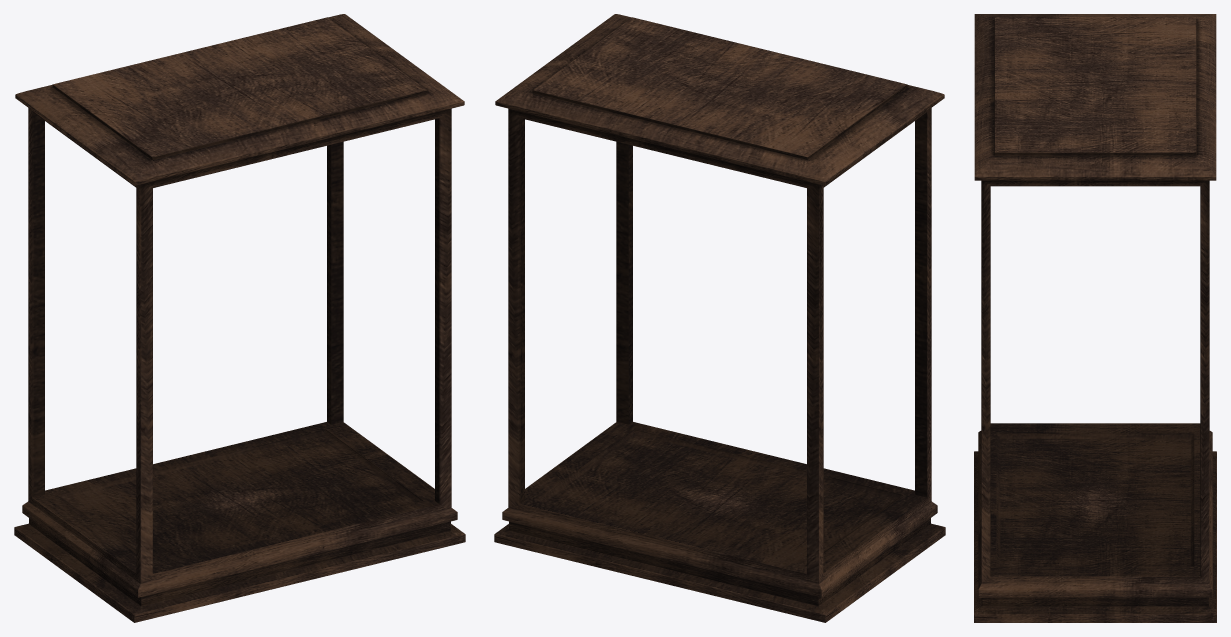
File: glass_showcase.glb
3 renders of one model, left to right at view 1: azimuth 30°, elevation 25°; view 2: azimuth 150°, elevation 25°; view 3: azimuth 270°, elevation 25°, orthographic.
Parts seen in each view (by area): view 1: Vitrine_0; view 2: Vitrine_0; view 3: Vitrine_0.
Boxes of the visible parts, <box> form: Vitrine_0: <box>14,14,465,622</box>; Vitrine_0: <box>494,14,945,622</box>; Vitrine_0: <box>974,14,1216,622</box>.
Size of the model in its own units: 4.05 by 5.28 by 2.54.
Materials: 1 (1 with a texture image).
